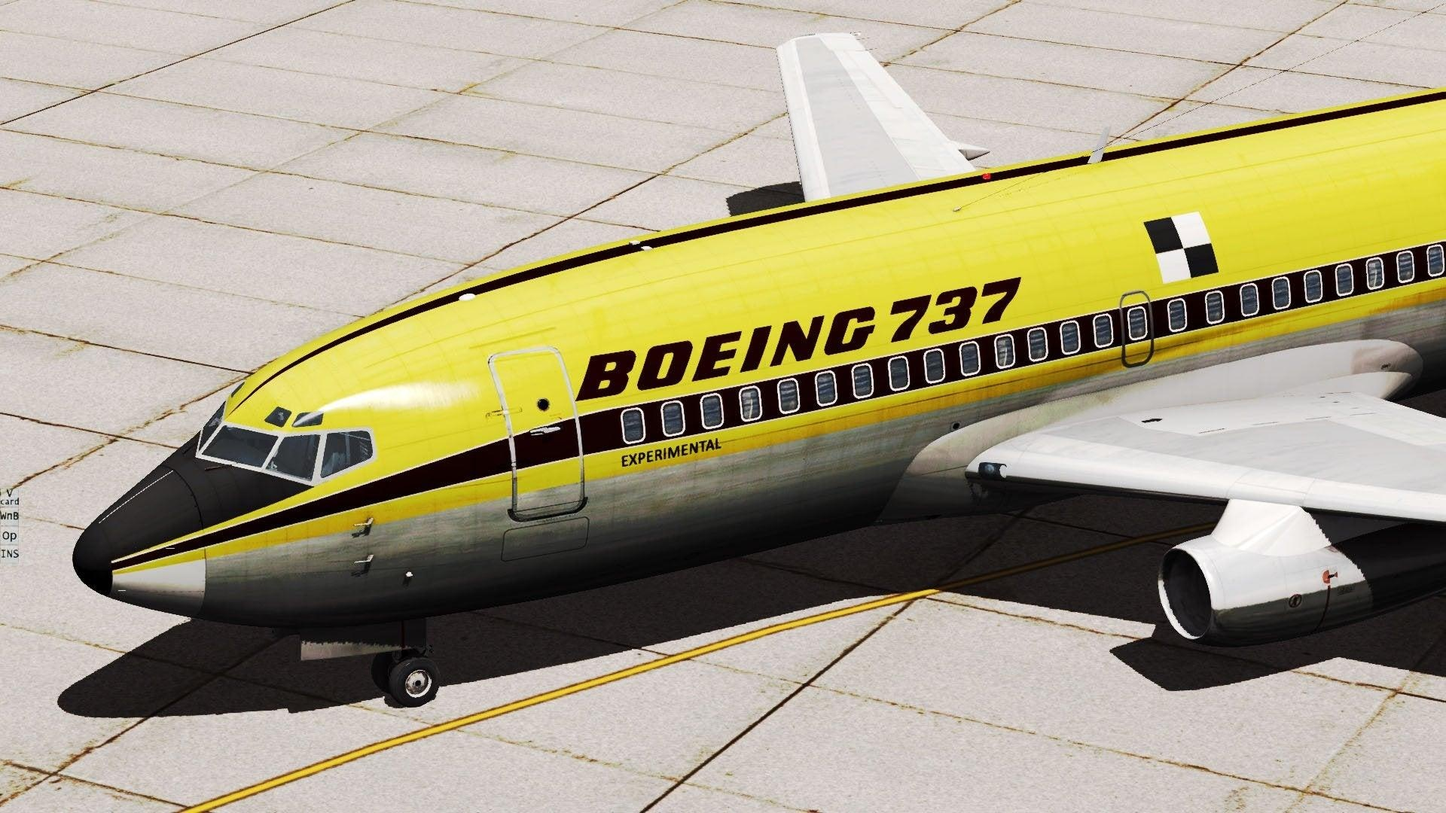aircraft: (52, 38, 1446, 726)
